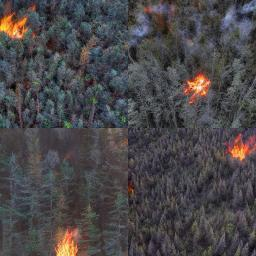Small fire: (173, 62, 218, 118), (0, 0, 49, 46), (47, 223, 95, 255), (220, 129, 256, 161)
